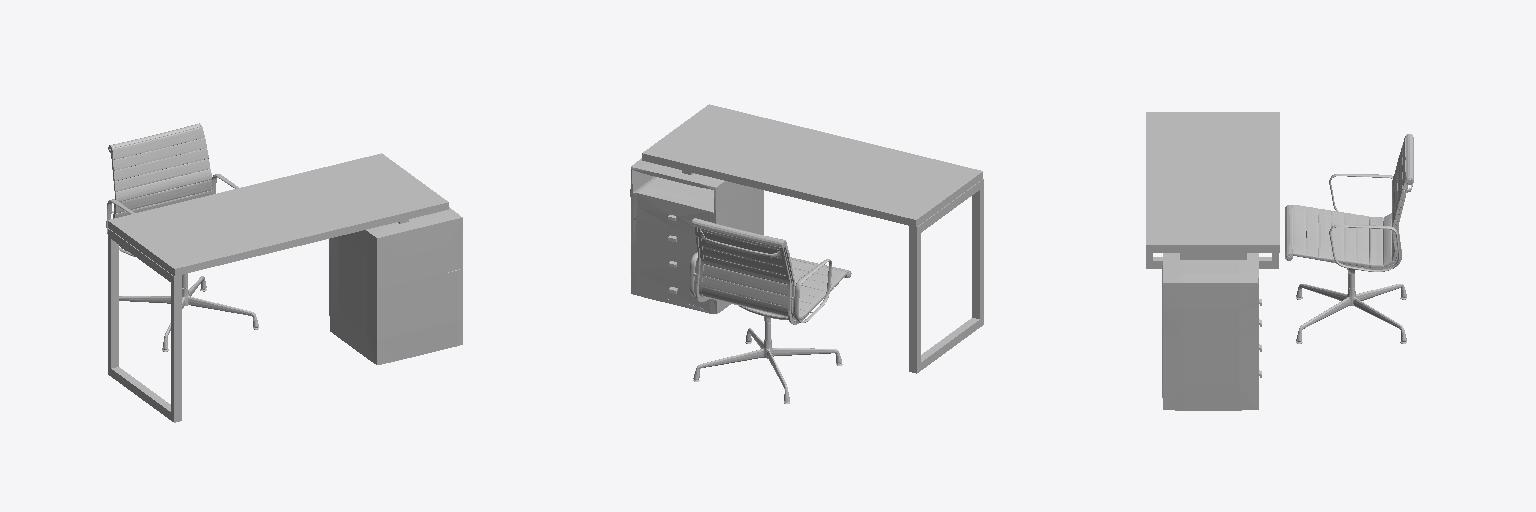
Rendered from escritorio.obj.
3 renders of one model, left to right at view 1: azimuth 30°, elevation 25°; view 2: azimuth 150°, elevation 25°; view 3: azimuth 270°, elevation 25°, orthographic.
Parts seen in each view (by area): view 1: Cube.004, Cube.005, Vitra_EA_108_Aluminium_Chair_OBJ, Cube.002; view 2: Cube.004, Cube.005, Vitra_EA_108_Aluminium_Chair_OBJ, Cube.002; view 3: Cube.004, Cube.005, Vitra_EA_108_Aluminium_Chair_OBJ.
Part boxes in pixels (x1,y1,x2,y2): Cube.004: (108,153,448,275); Cube.005: (329,207,462,364); Vitra_EA_108_Aluminium_Chair_OBJ: (106,123,258,351); Cube.002: (108,228,181,422); Cube.004: (642,104,982,226); Cube.005: (630,158,763,313); Vitra_EA_108_Aluminium_Chair_OBJ: (690,218,851,403); Cube.002: (909,179,983,373); Cube.004: (1146,112,1279,259); Cube.005: (1162,253,1261,410); Vitra_EA_108_Aluminium_Chair_OBJ: (1285,134,1413,343).
Size of the model in its own units: 1.3 by 0.6931 by 1.02.